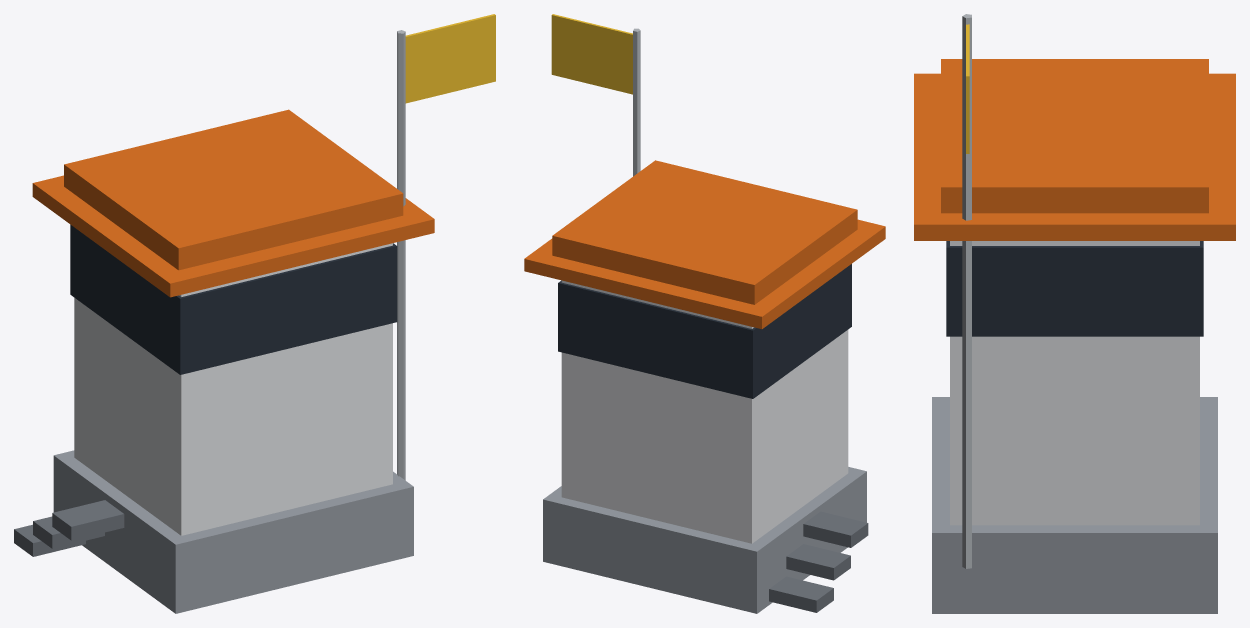
File: marshal-post.glb
3 renders of one model, left to right at view 1: azimuth 30°, elevation 25°; view 2: azimuth 150°, elevation 25°; view 3: azimuth 270°, elevation 25°, orthographic. The views are drawn at different scales.
Parts seen in each view (by area): view 1: marshalPost; view 2: marshalPost; view 3: marshalPost.
Part boxes in pixels (bbox=[...]): marshalPost: bbox=[14, 14, 495, 613]; marshalPost: bbox=[524, 14, 885, 613]; marshalPost: bbox=[914, 14, 1235, 613].
Bounding box in the file's own units: 2.93 × 3.7 × 1.8.
